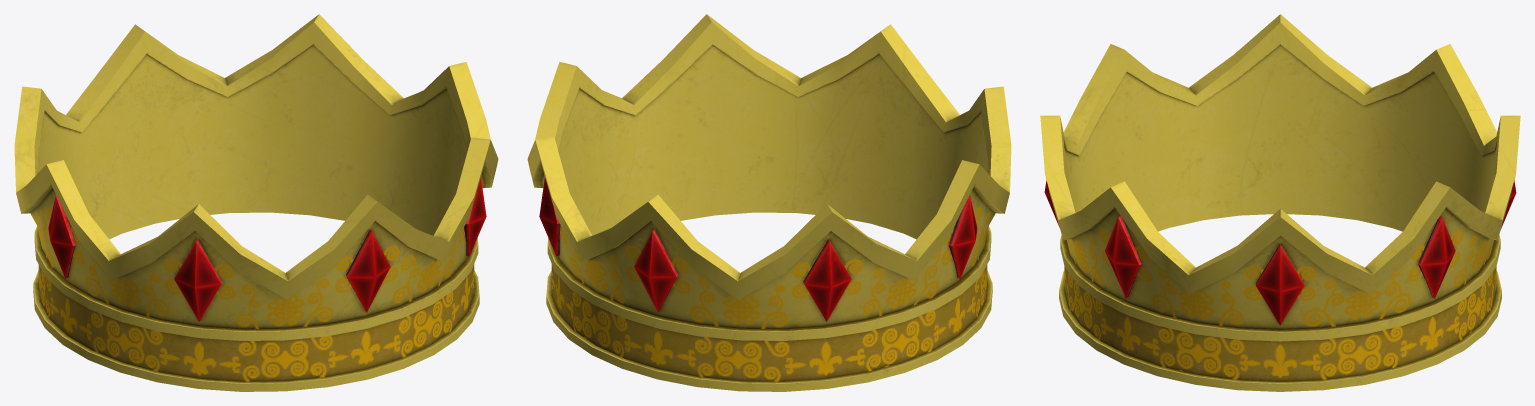
The model's file is crown.gltf.
3 renders of one model, left to right at view 1: azimuth 30°, elevation 25°; view 2: azimuth 150°, elevation 25°; view 3: azimuth 270°, elevation 25°, orthographic.
Parts seen in each view (by area): view 1: Circle; view 2: Circle; view 3: Circle.
Part boxes in pixels (<box>): Circle: <box>14,14,498,391</box>; Circle: <box>527,14,1011,391</box>; Circle: <box>1040,14,1520,391</box>.
Size of the model in its own units: 2 by 0.8552 by 2.
Materials: 1 (1 with a texture image).
